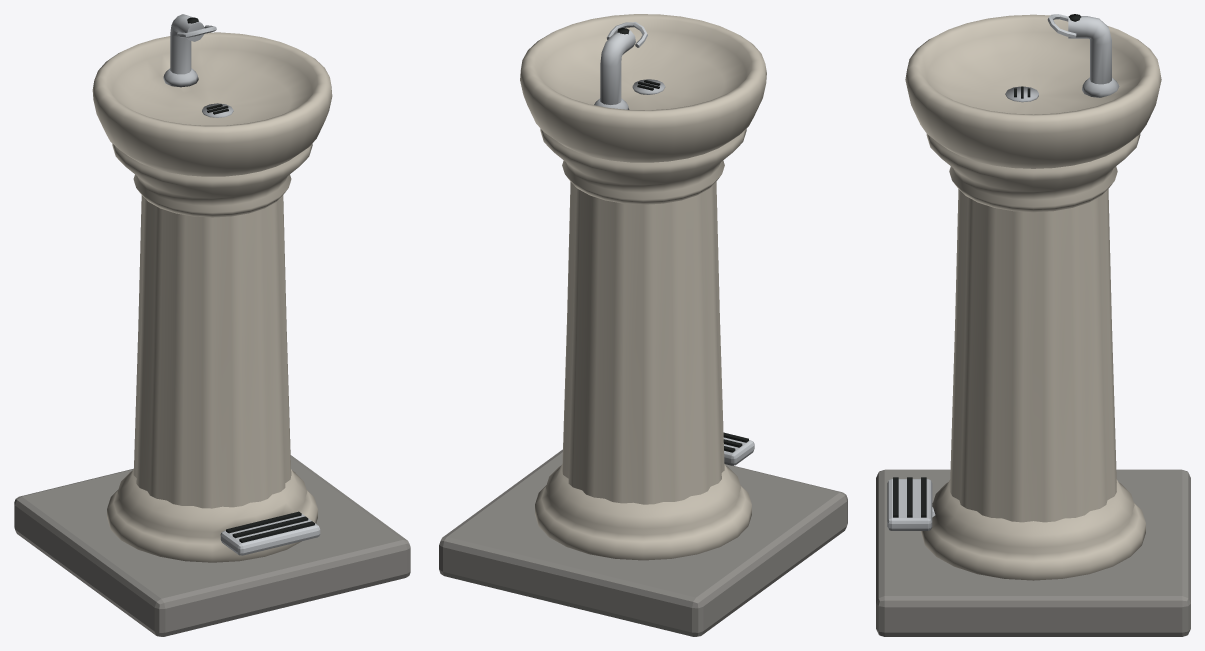
The model's file is drinkingFountain.glb.
3 renders of one model, left to right at view 1: azimuth 30°, elevation 25°; view 2: azimuth 150°, elevation 25°; view 3: azimuth 270°, elevation 25°, orthographic. The views are drawn at different scales.
Visible parts, largest first — view 1: drinkingFountain; view 2: drinkingFountain; view 3: drinkingFountain.
Part boxes in pixels (left/top/right/bottom): drinkingFountain: left=14, top=14, right=410, bottom=636; drinkingFountain: left=439, top=14, right=847, bottom=636; drinkingFountain: left=876, top=14, right=1190, bottom=636.
Bounding box in the file's own units: 0.56 × 1.09 × 0.56.
